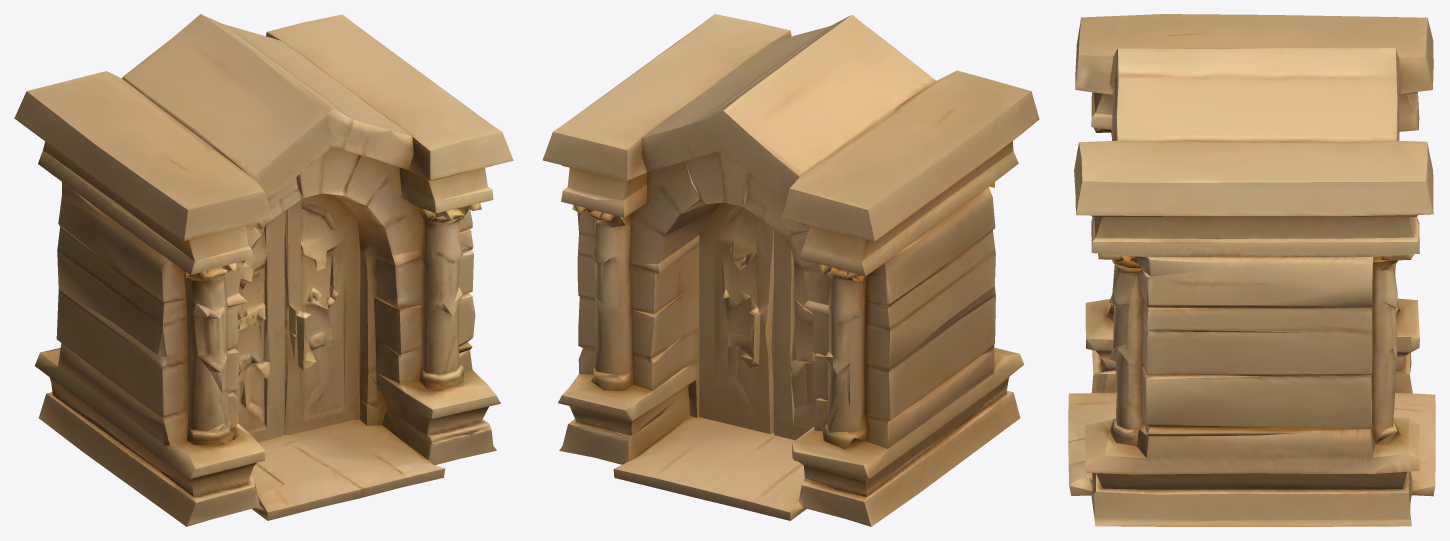
File: m2TempleGate.glb
3 renders of one model, left to right at view 1: azimuth 30°, elevation 25°; view 2: azimuth 150°, elevation 25°; view 3: azimuth 270°, elevation 25°, orthographic. The views are drawn at different scales.
Visible parts, largest first — view 1: model; view 2: model; view 3: model.
Boxes of the visible parts, x1,y1,x2,y2 form: model: (14, 14, 513, 526); model: (542, 14, 1039, 526); model: (1068, 14, 1435, 526).
Bounding box in the file's own units: 1.77 × 1.9 × 1.58.
Materials: 1 (1 with a texture image).
